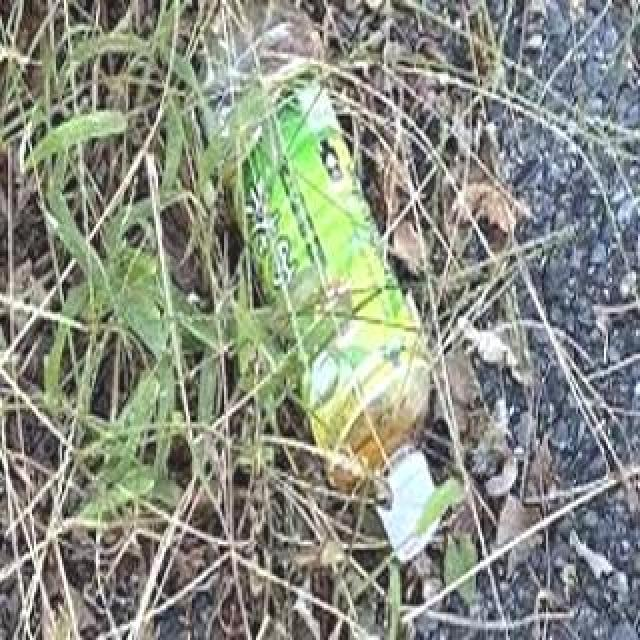Pet_Bottle: (207, 12, 445, 564)
